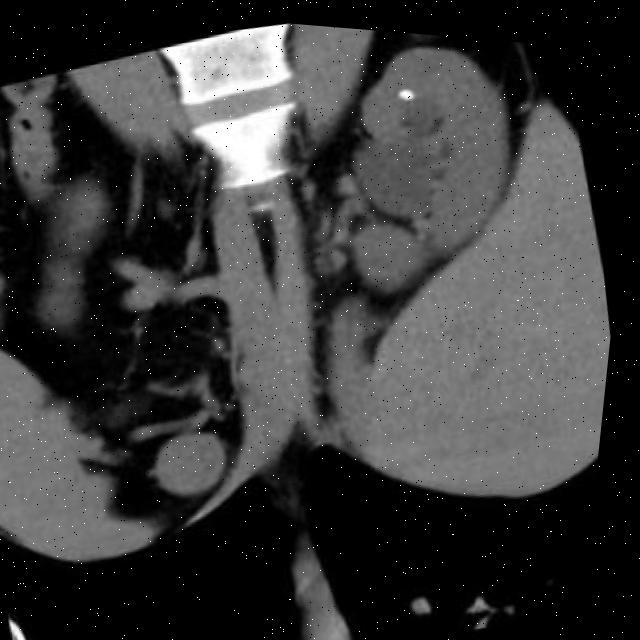Tas_Var: (389, 64, 425, 107)
